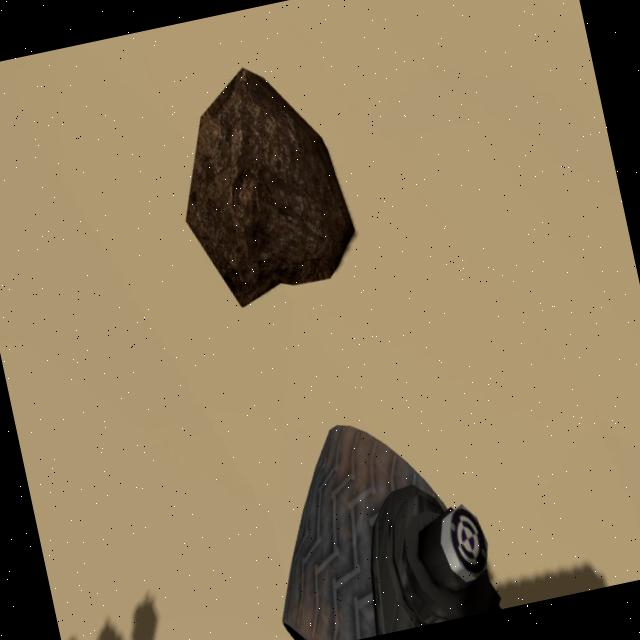rock: (154, 50, 366, 316)
